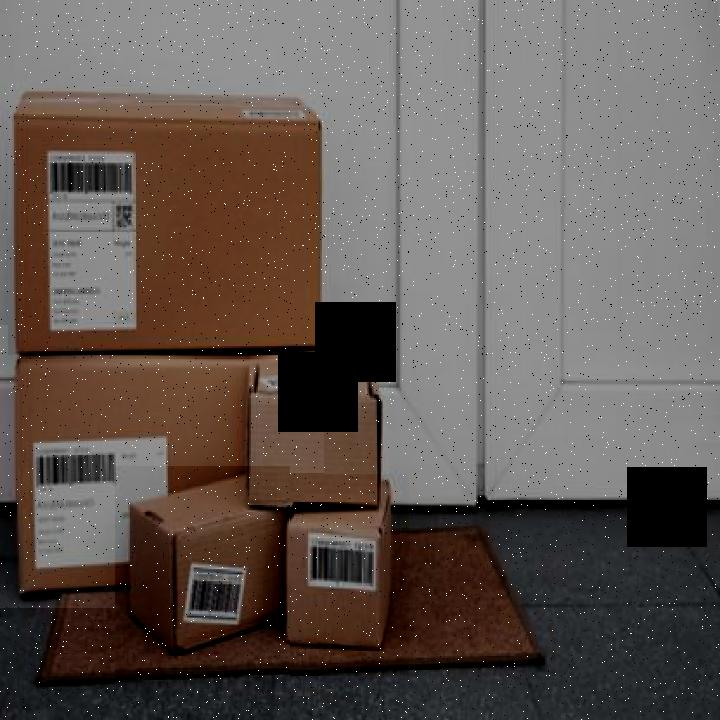box: (0, 326, 324, 610), (8, 81, 330, 355), (115, 468, 290, 686), (271, 474, 409, 675), (246, 354, 389, 527)
